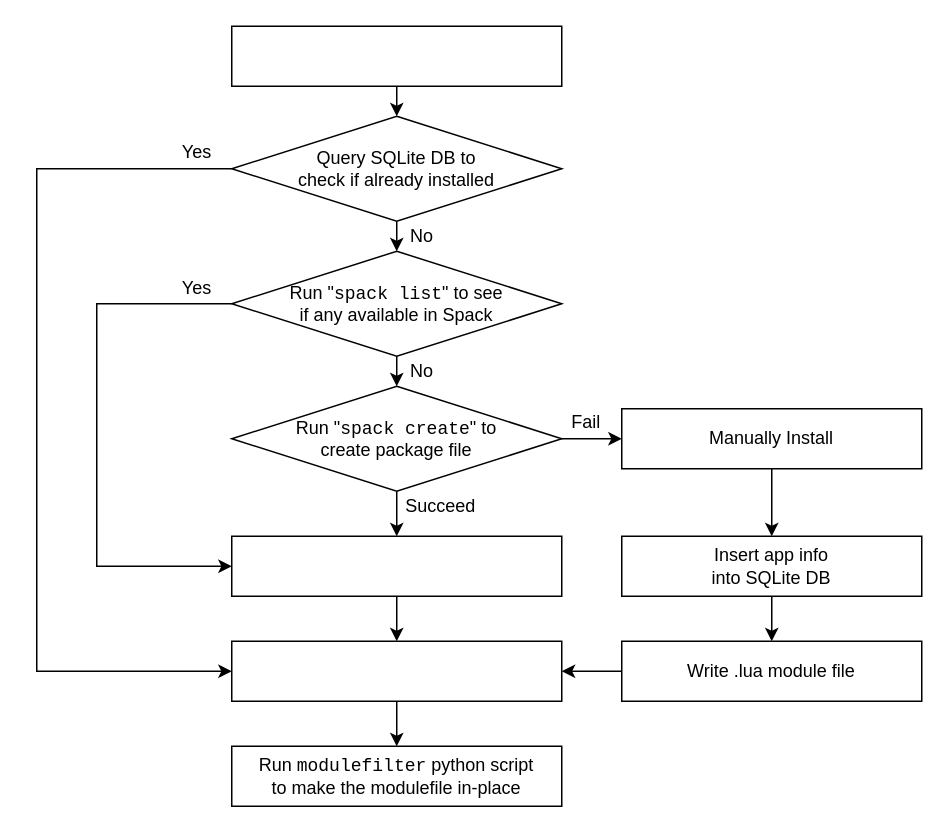
The diagram is 948 pixels wide and 833 high, and some of its shapes have lost their labels. Each missing label, with the centre of its shape:
Add the app info in JSON file for general users if needed: pixel 396 670
Load Spack and any environment in a specific $SPACK_ADMIN account: pixel 396 55
Run " spack install " to install via Spack: pixel 396 565
